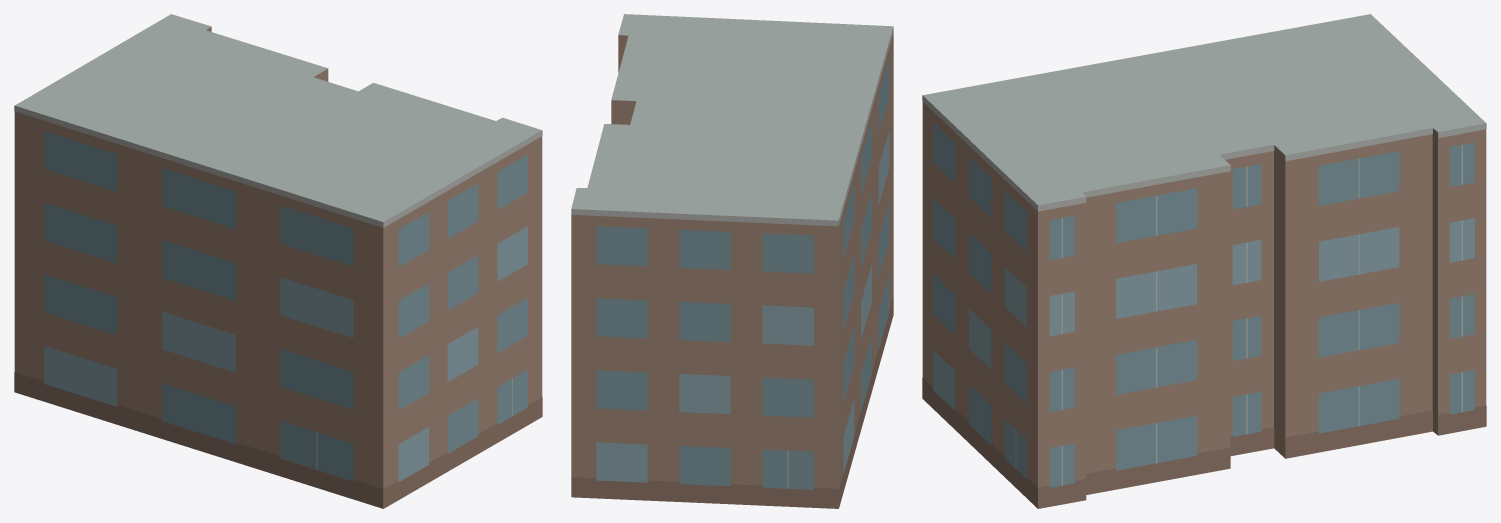
File: survey-upis-32686473.glb
3 renders of one model, left to right at view 1: azimuth 30°, elevation 25°; view 2: azimuth 150°, elevation 25°; view 3: azimuth 270°, elevation 25°, orthographic. The views are drawn at different scales.
Visible parts, largest first — view 1: survey-upis-32686473.tmp; view 2: survey-upis-32686473.tmp; view 3: survey-upis-32686473.tmp.
Boxes of the visible parts, left/top/right/bottom form: survey-upis-32686473.tmp: left=14, top=14, right=542, bottom=508; survey-upis-32686473.tmp: left=571, top=14, right=893, bottom=508; survey-upis-32686473.tmp: left=922, top=14, right=1486, bottom=508.
Size of the model in its own units: 16.52 by 12.2 by 20.56.
